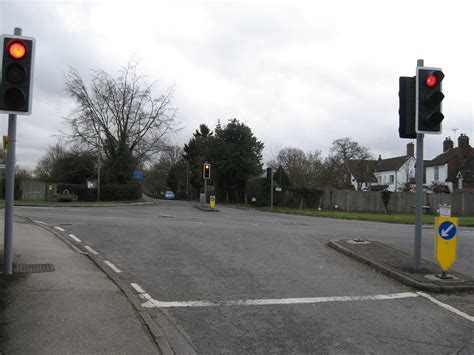stop: (1, 34, 32, 114), (417, 67, 443, 134), (204, 164, 210, 179)
